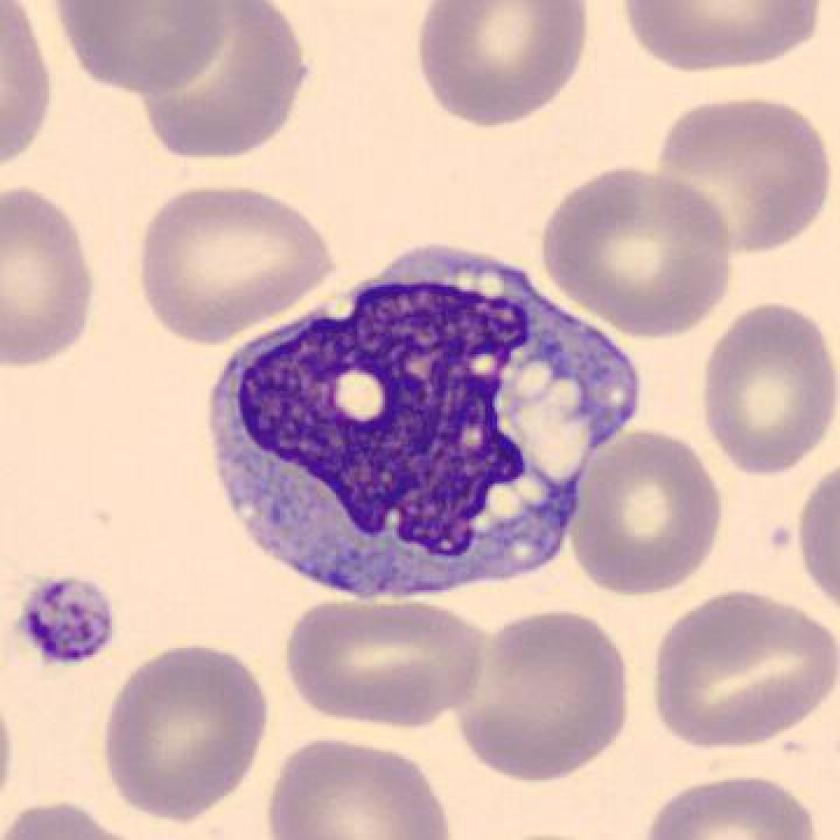monocyte: (195, 212, 654, 631)
